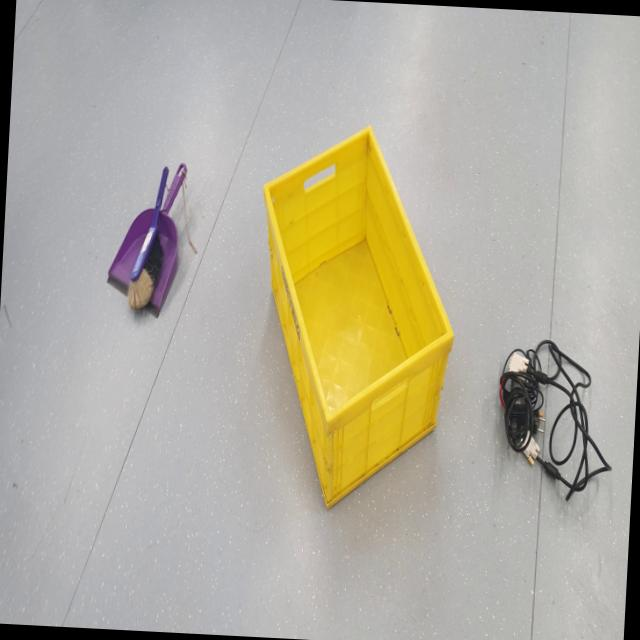box: (241, 100, 474, 537)
